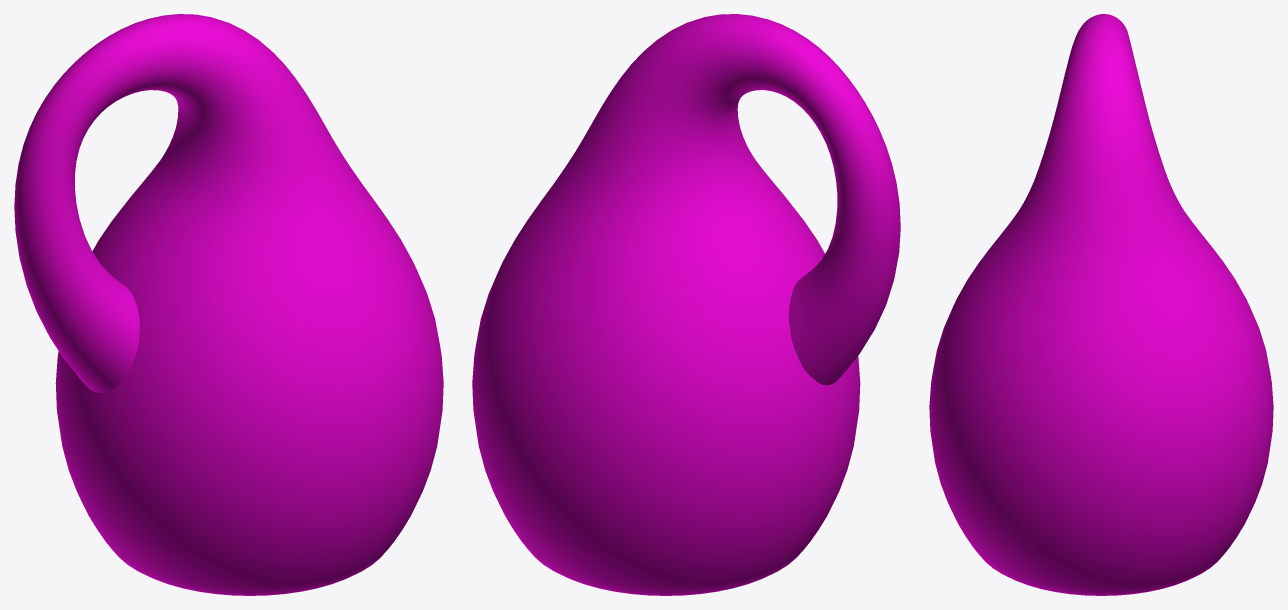
The model's file is klein_bottle_2.glb.
3 views of the same model, side by side, from view 1: azimuth 30°, elevation 25°; view 2: azimuth 150°, elevation 25°; view 3: azimuth 270°, elevation 25° (orthographic). The views are drawn at different scales.
Visible parts, largest first — view 1: Sphere001; view 2: Sphere001; view 3: Sphere001.
Boxes of the visible parts, bbox=[...] form: Sphere001: bbox=[14, 14, 443, 595]; Sphere001: bbox=[472, 14, 900, 595]; Sphere001: bbox=[929, 14, 1273, 595].
Size of the model in its own units: 1.89 by 2.46 by 1.6.
